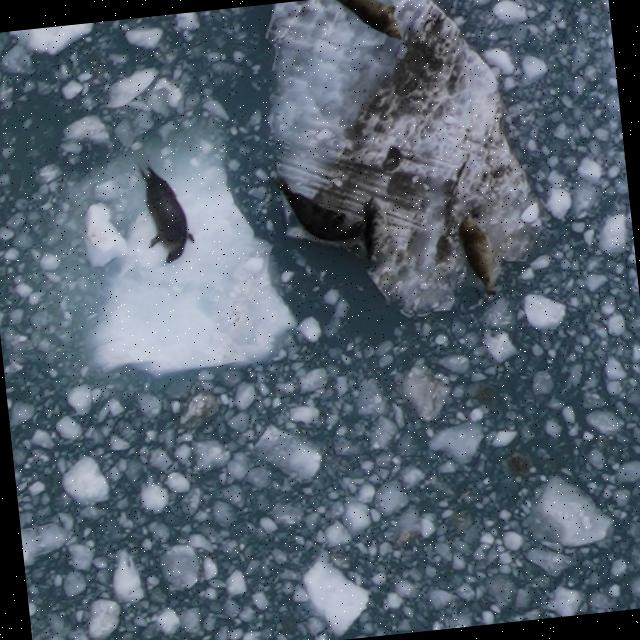seal: (273, 162, 370, 252), (135, 159, 200, 268), (452, 207, 503, 302), (324, 0, 407, 50), (357, 191, 394, 268)
